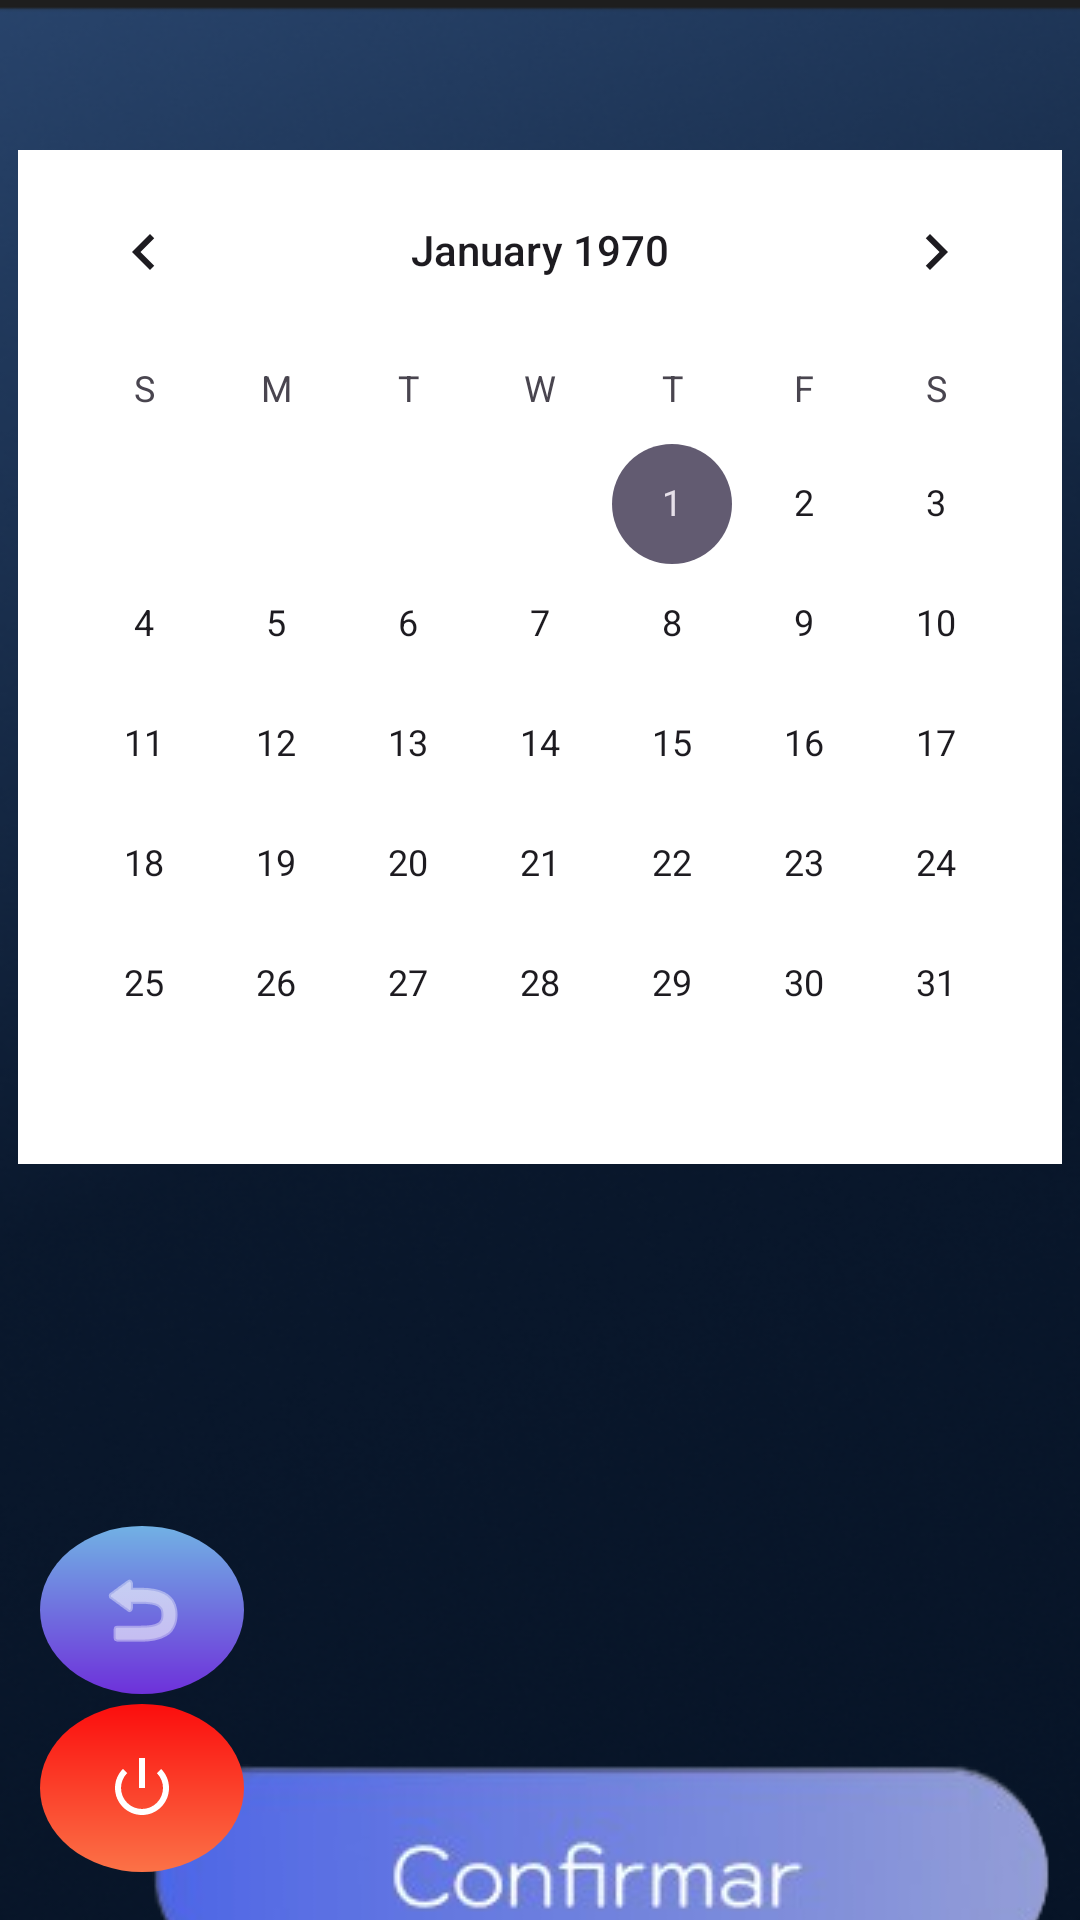

Locate icon controls on the screen. Image size 1080px x 1920px, boxes as (x1, y1, x2, y2).
lock power off: (40, 1704, 244, 1872)
revert: (40, 1526, 244, 1694)
